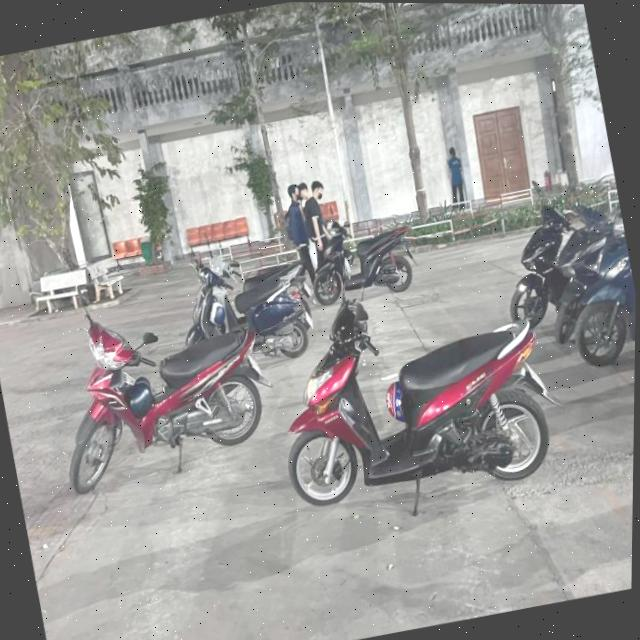motorcycle: (251, 252, 576, 536), (34, 276, 280, 503), (168, 230, 321, 379), (535, 214, 637, 385), (300, 204, 425, 311)
